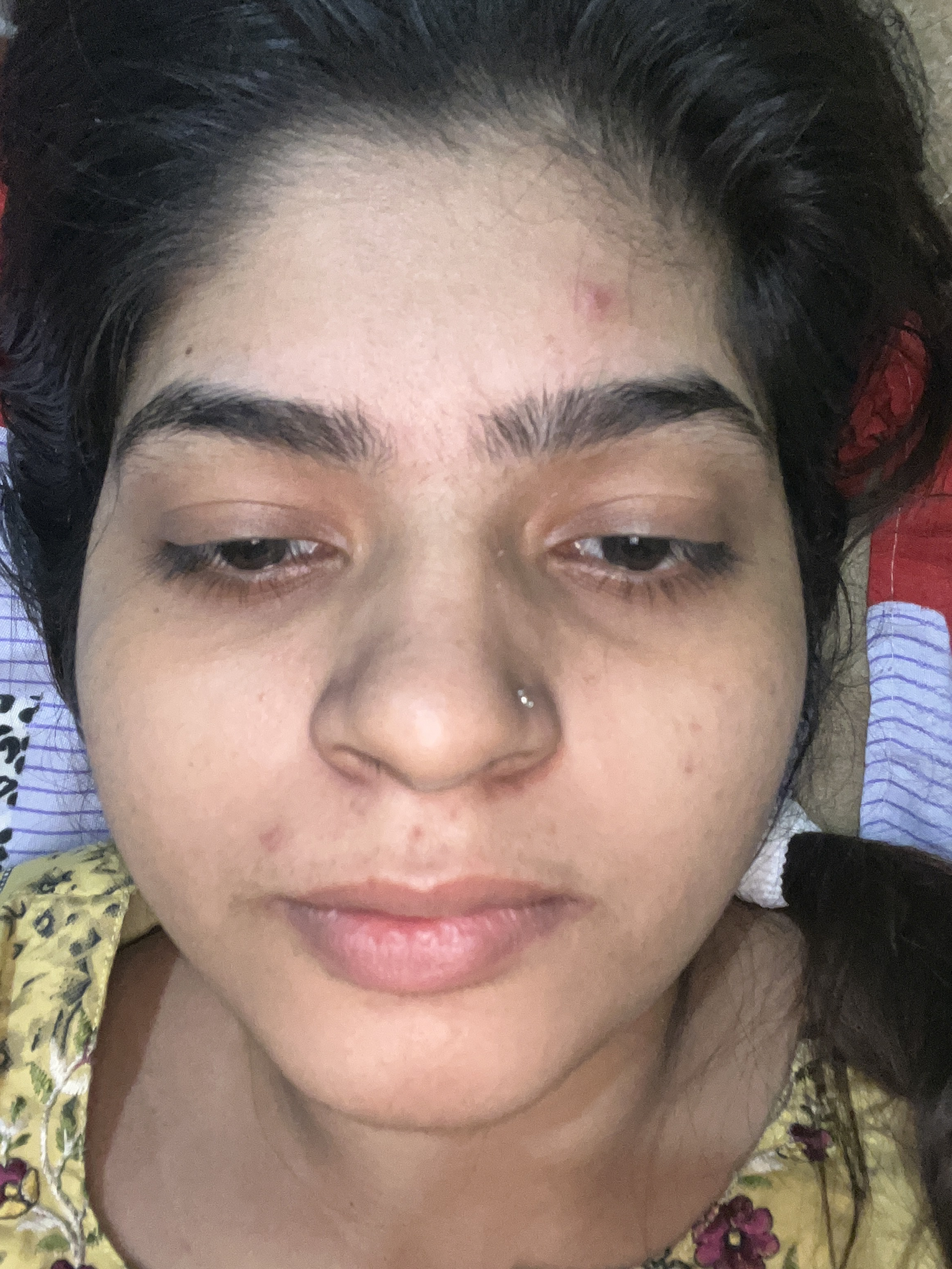papule: (569, 279, 624, 332)
